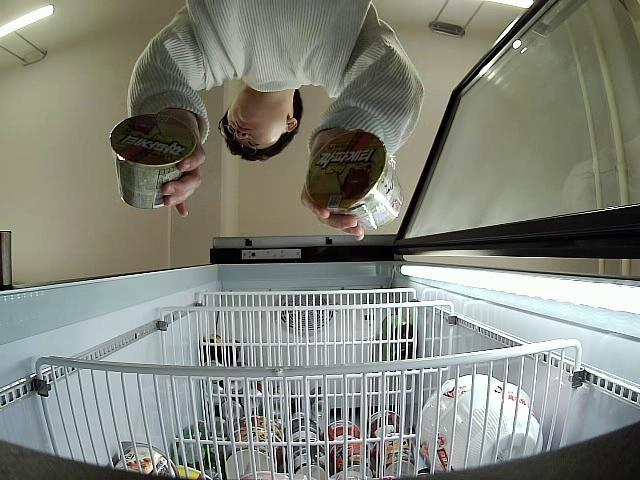04_chapagetti_S: (308, 130, 403, 225), (110, 114, 198, 212)
